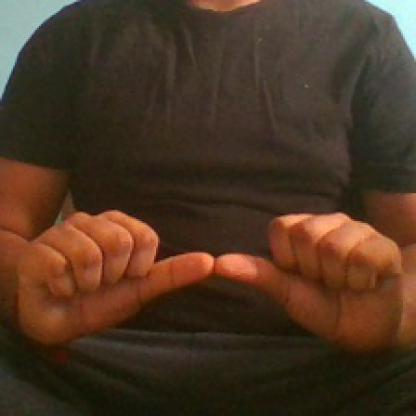A: (16, 197, 406, 346)
